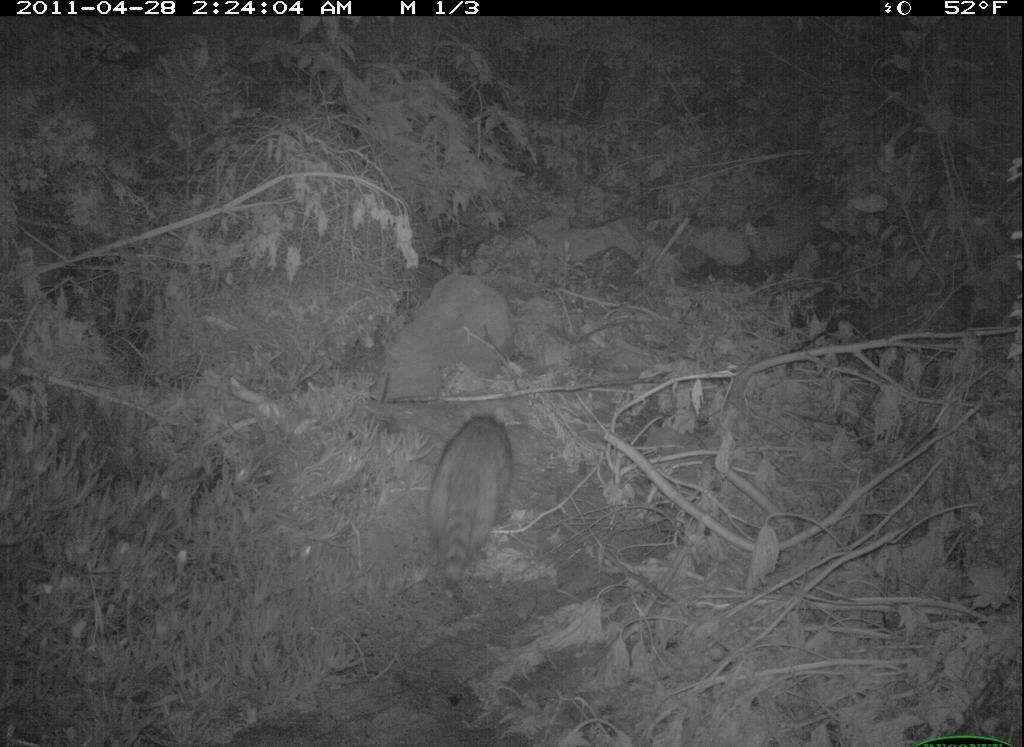raccoon: (413, 396, 541, 616)
